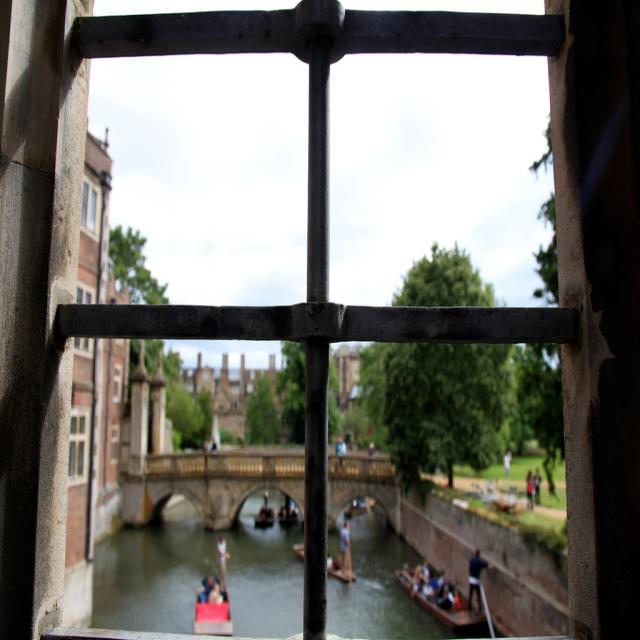Boat: (395, 551, 479, 640), (291, 510, 359, 587), (184, 568, 232, 635), (246, 494, 278, 536), (282, 490, 299, 538)
